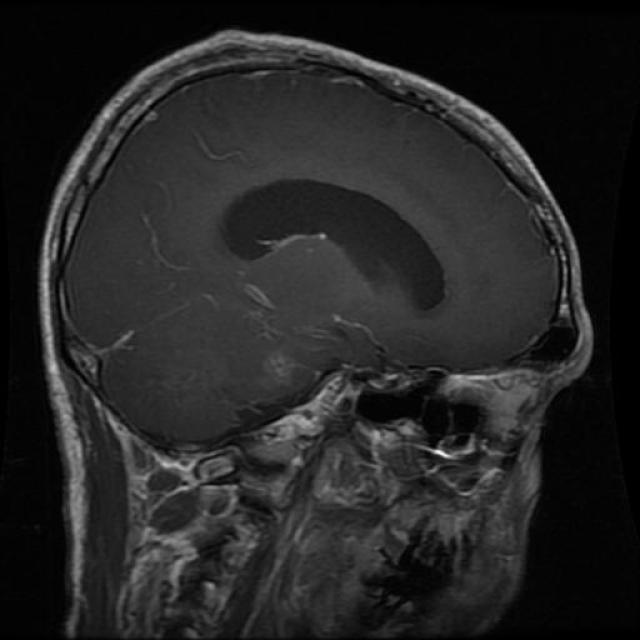glioma: (218, 168, 452, 320)
